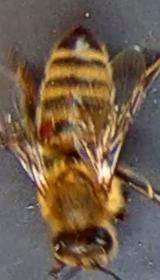varroa_mite: (29, 114, 56, 144)
